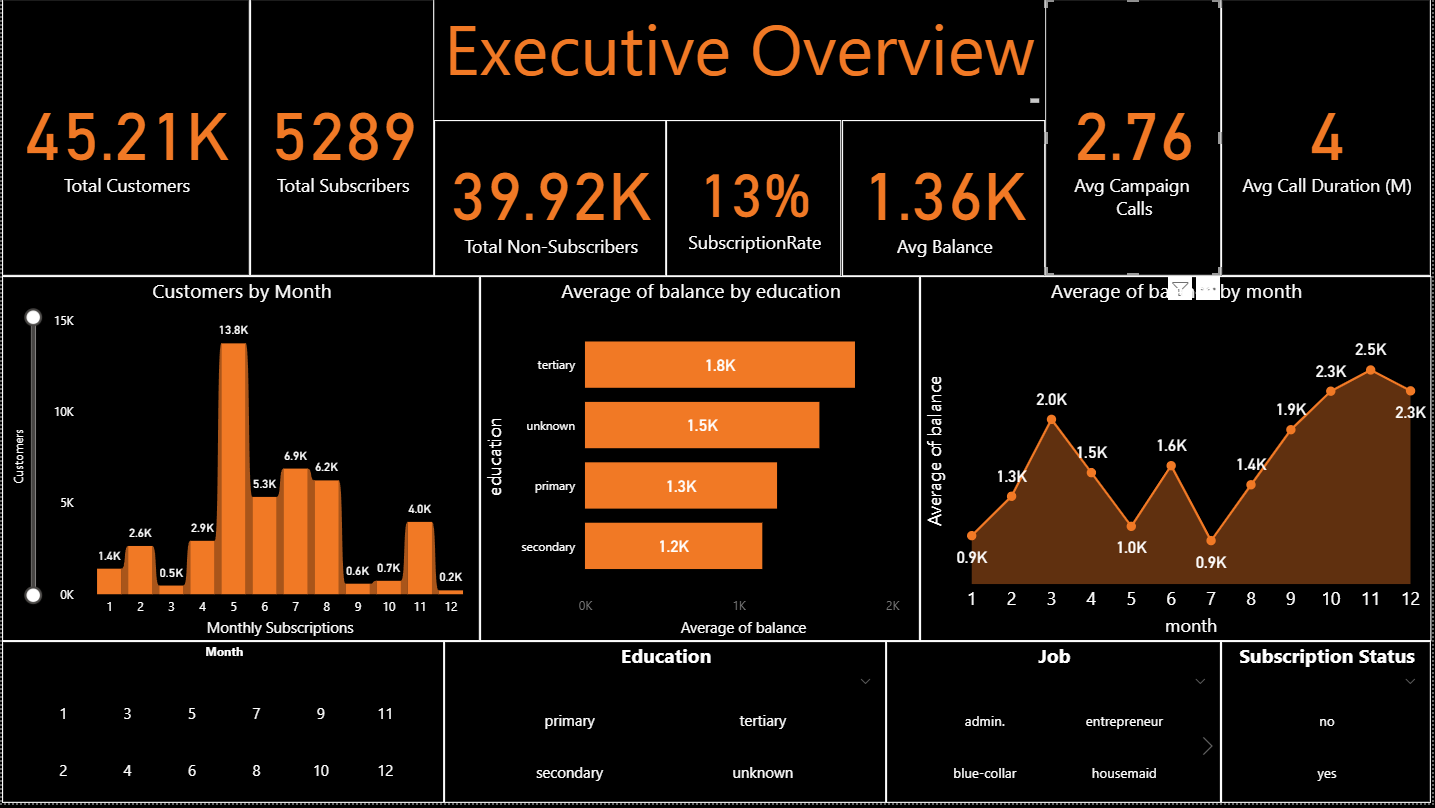

Layout of this report page (visuals, bound fields, positions):
{"tool":"powerbi","page":{"name":"Executive Overview","canvas":[1280,720],"ordinal":0},"visuals":[{"type":"card","fields":{"Values":["CountNonNull(bank-full.Target)"]},"box":[0,0,222,248],"z":0},{"type":"card","fields":{"Values":["CountNonNull(bank-full.Target)"]},"box":[222,0,165,248],"z":1000},{"type":"card","fields":{"Values":["CountNonNull(bank-full.Target)"]},"box":[387,108,208,140],"z":2000},{"type":"card","fields":{"Values":["Avg(bank-full.balance)"]},"box":[752,108,182,140],"z":3000},{"type":"card","fields":{"Values":["bank-full.AverageCallDuration"]},"box":[1092,0,188,248],"z":4000},{"type":"card","fields":{"Values":["Avg(bank-full.campaign)"]},"box":[934,0,158,248],"z":5000},{"type":"columnChart","title":"Customers by Month","fields":{"Category":["bank-full.month"],"Y":["CountNonNull(bank-full.CustomerID)"]},"box":[0,248,428,327],"z":6000},{"type":"lineChart","fields":{"Y":["Avg(bank-full.balance)"],"Category":["bank-full.month"]},"box":[822.1,248.1,457.6,326.9],"z":7000},{"type":"clusteredBarChart","fields":{"Category":["bank-full.education"],"Y":["Avg(bank-full.balance)"]},"box":[428.1,248.1,394,326.9],"z":8000},{"type":"textbox","title":"Executive Overview","box":[387,0,547,98],"z":9000},{"type":"card","fields":{"Values":["bank-full.SubscriptionRate"]},"box":[595,108,157,140],"z":10000},{"type":"slicer","title":"Subscription Status","fields":{"Values":["bank-full.Target"]},"box":[1092,575,188,145],"z":11000},{"type":"slicer","title":"Education","fields":{"Values":["bank-full.education"]},"box":[396,575,396,145],"z":12000},{"type":"slicer","title":"Month","fields":{"Values":["bank-full.month"]},"box":[0,575,396,145],"z":13000},{"type":"slicer","title":"Job","fields":{"Values":["bank-full.job"]},"box":[792,575,300,145],"z":14000}]}

Visuals, with their boxes in screenshot pixels (x1, y1, x2, y2), scaled from the page's 1280x720 canvas onto the 1435x808 screenshot:
card - CountNonNull(bank-full.Target): (0,0,249,278)
card - CountNonNull(bank-full.Target): (249,0,434,278)
card - CountNonNull(bank-full.Target): (434,121,667,278)
card - Avg(bank-full.balance): (843,121,1047,278)
card - bank-full.AverageCallDuration: (1224,0,1434,278)
card - Avg(bank-full.campaign): (1047,0,1224,278)
"Customers by Month" columnChart: (0,278,480,645)
lineChart - Avg(bank-full.balance) x bank-full.month: (922,278,1434,645)
clusteredBarChart - bank-full.education x Avg(bank-full.balance): (480,278,922,645)
"Executive Overview" textbox: (434,0,1047,110)
card - bank-full.SubscriptionRate: (667,121,843,278)
"Subscription Status" slicer: (1224,645,1434,807)
"Education" slicer: (444,645,888,807)
"Month" slicer: (0,645,444,807)
"Job" slicer: (888,645,1224,807)
